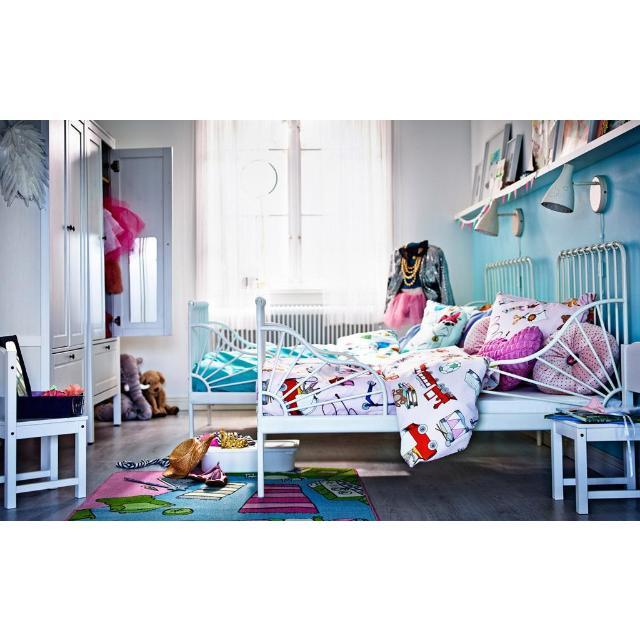bed: (256, 242, 629, 496)
chair: (546, 342, 640, 514), (0, 348, 88, 508)
dresser: (0, 119, 172, 441)
lamp: (541, 163, 608, 213), (475, 199, 524, 236)
rug: (69, 468, 378, 520)
